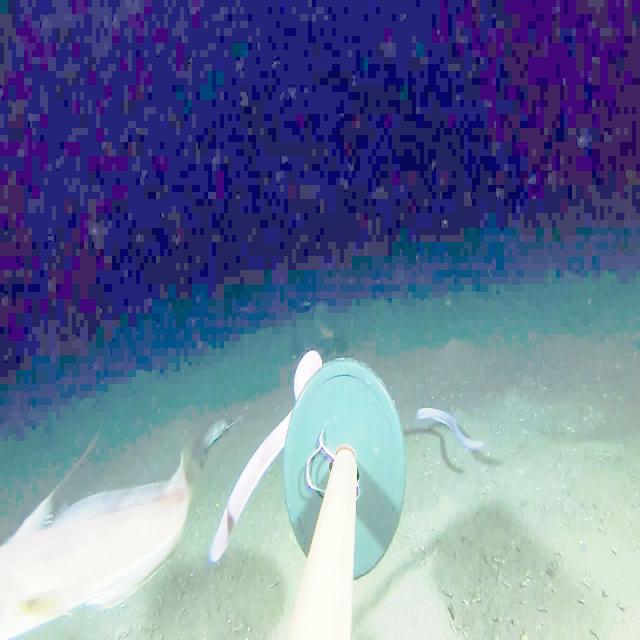eel: (191, 327, 335, 590), (406, 382, 496, 479)
fish: (0, 435, 201, 639), (173, 404, 243, 471)
pole: (281, 360, 409, 639)
